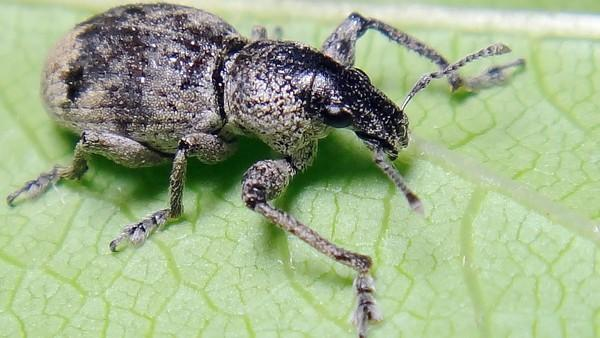Curculionidae: (6, 1, 525, 338)
